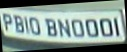character: (84, 18, 99, 37), (99, 17, 112, 37), (70, 19, 84, 37), (57, 18, 70, 37), (45, 17, 57, 36), (28, 17, 40, 35), (14, 15, 24, 33), (2, 13, 11, 31), (112, 17, 120, 36), (23, 15, 29, 34)
